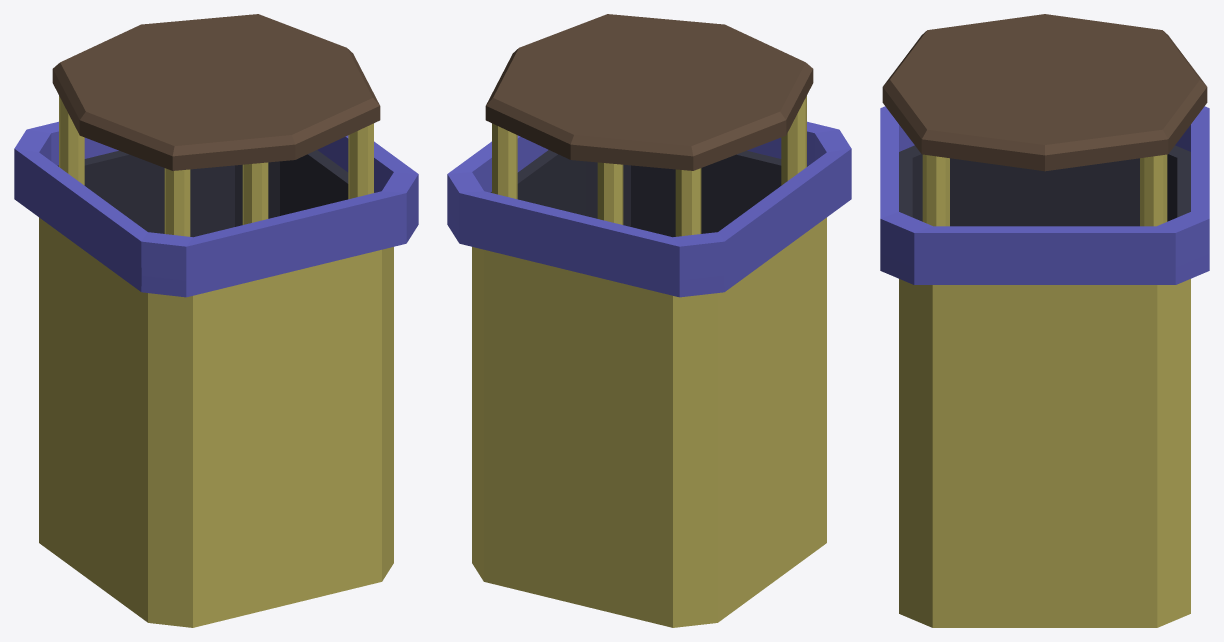
The model's file is Trashcan.fbx.
3 views of the same model, side by side, from view 1: azimuth 30°, elevation 25°; view 2: azimuth 150°, elevation 25°; view 3: azimuth 270°, elevation 25° (orthographic). The views are drawn at different scales.
Visible parts, largest first — view 1: Cube.001; view 2: Cube.001; view 3: Cube.001.
Boxes of the visible parts, <box> form: Cube.001: <box>14,14,418,627</box>; Cube.001: <box>447,14,851,627</box>; Cube.001: <box>880,14,1209,627</box>.
Bounding box in the file's own units: 308 × 502 × 308.
